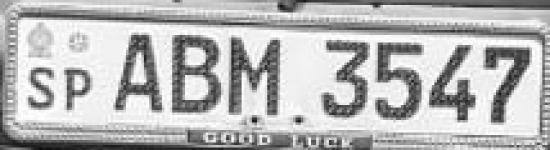3: (318, 35, 374, 122)
4: (426, 42, 480, 125)
5: (372, 38, 428, 126)
7: (480, 42, 534, 124)
A: (110, 28, 170, 118)
B: (171, 30, 224, 119)
M: (227, 30, 287, 119)
P: (61, 65, 96, 116)
S: (26, 64, 58, 113)
